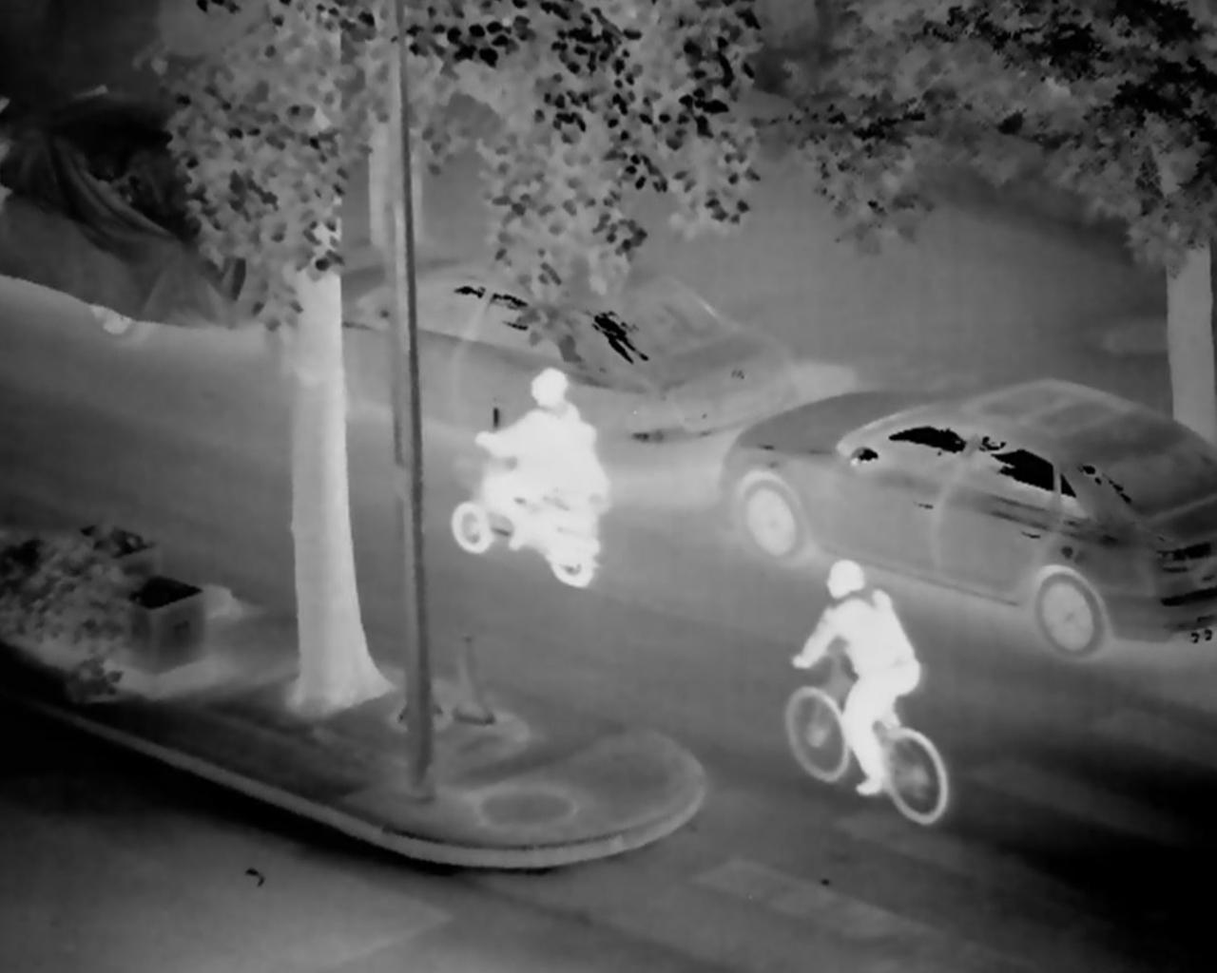person: (785, 557, 927, 807), (475, 367, 596, 560)
